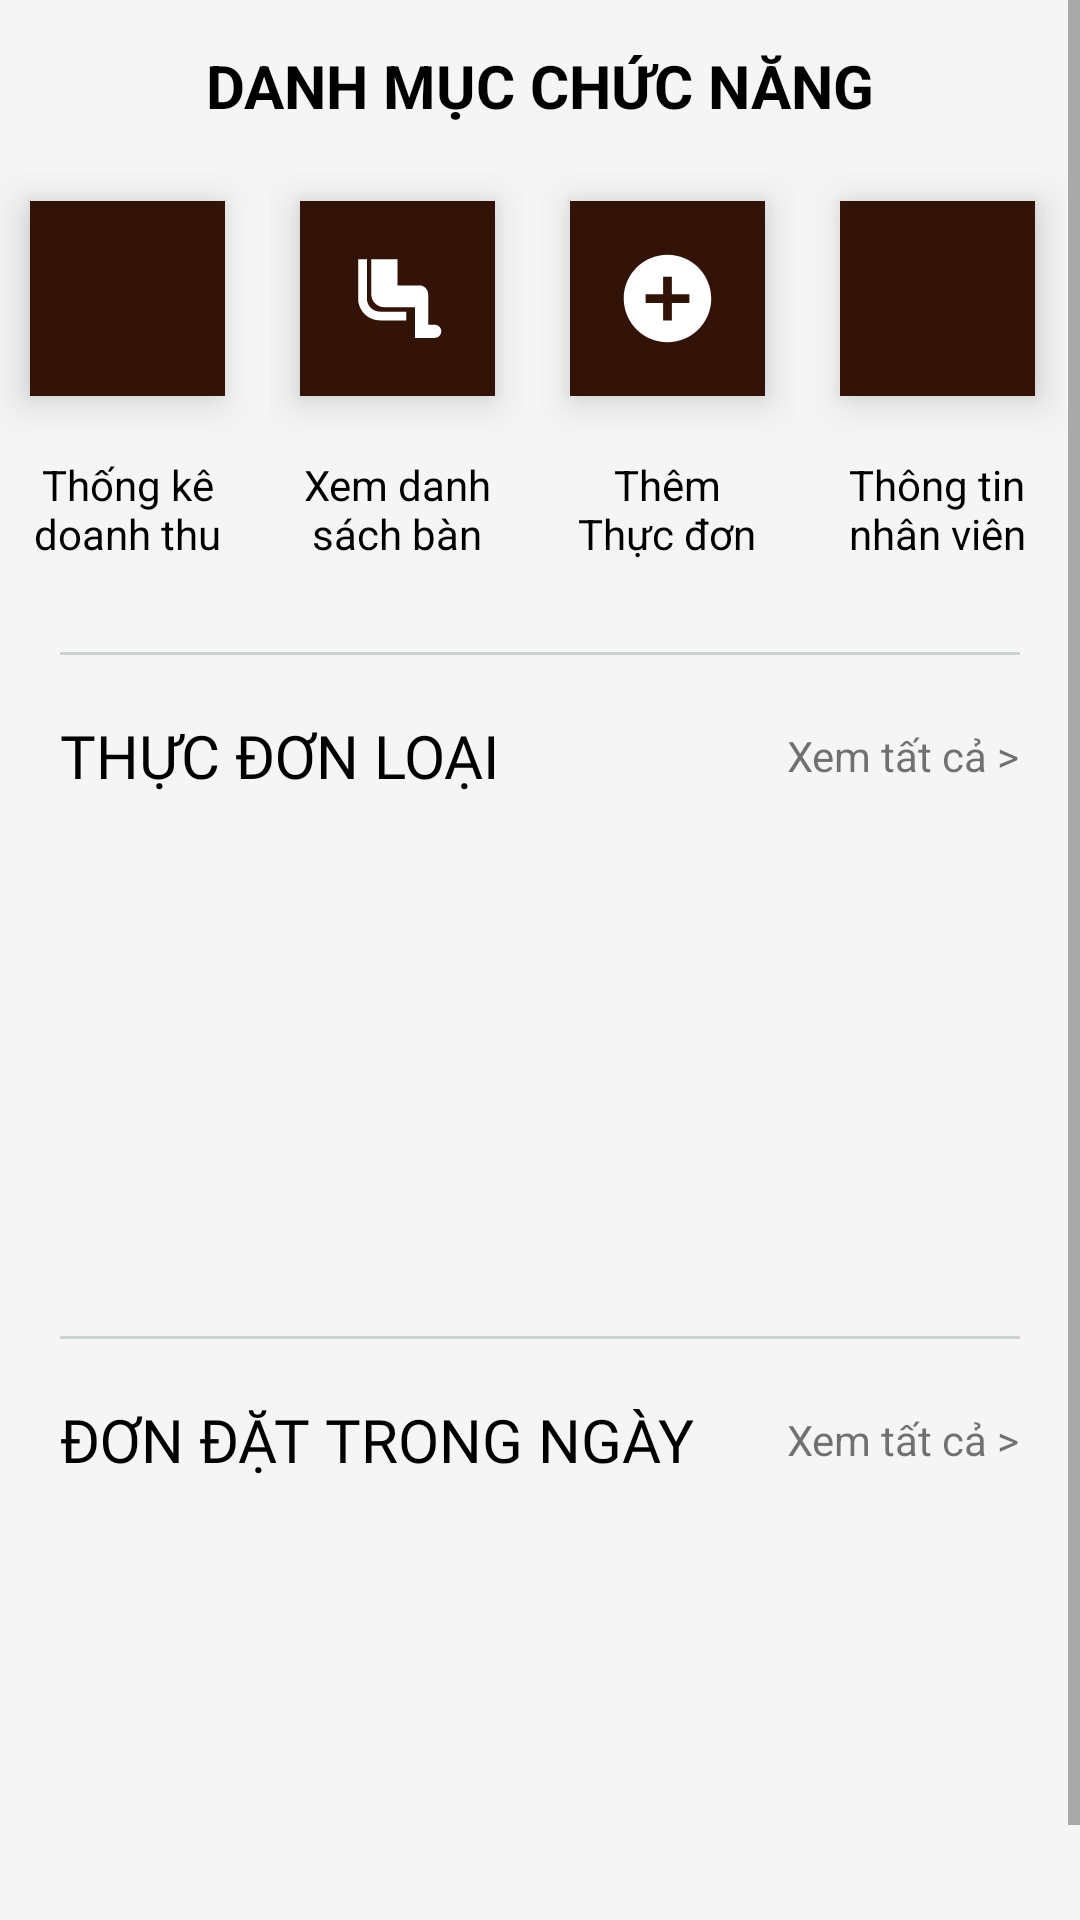

Screen size 1080px×1920px. Icon name, then its center in pixels as point (x, y):
add circle: point (667, 298)
airline seat legroom: point (400, 298)
